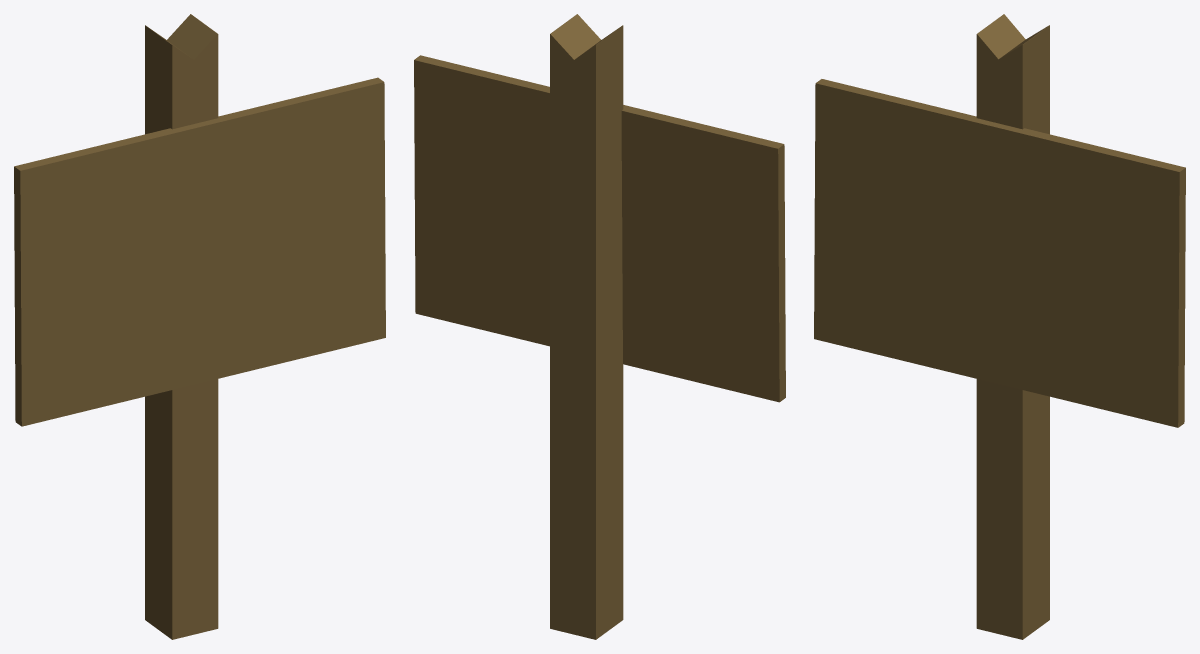
The model's file is WaxWorled_Sign_1.fbx.
3 views of the same model, side by side, from view 1: azimuth 30°, elevation 25°; view 2: azimuth 150°, elevation 25°; view 3: azimuth 330°, elevation 25° (orthographic).
Visible parts, largest first — view 1: Box001; view 2: Box001; view 3: Box001.
Boxes of the visible parts, box(x1,y1,x2,y2) form: Box001: box(14, 14, 385, 639); Box001: box(414, 14, 785, 639); Box001: box(814, 14, 1185, 639).
Size of the model in its own units: 39.34 by 61.4 by 6.26.
1 material, 1 textured.
